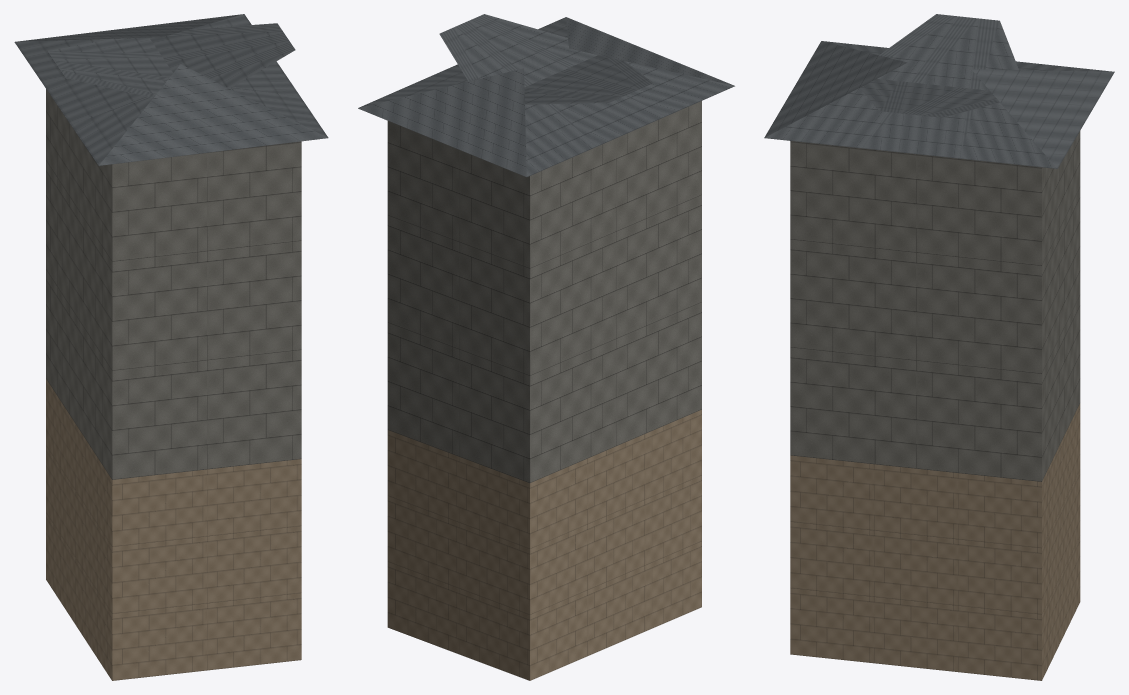
The model's file is bld_c28_-54_555.gltf.
3 renders of one model, left to right at view 1: azimuth 30°, elevation 25°; view 2: azimuth 150°, elevation 25°; view 3: azimuth 270°, elevation 25°, orthographic.
Parts seen in each view (by area): view 1: bld_c28_-54_555; view 2: bld_c28_-54_555; view 3: bld_c28_-54_555.
Part boxes in pixels (x1,y1,x2,y2): bld_c28_-54_555: [14, 14, 328, 680]; bld_c28_-54_555: [358, 14, 734, 680]; bld_c28_-54_555: [764, 14, 1114, 680].
Size of the model in its own units: 7.04 by 14.4 by 8.15.
3 materials, 3 textured.
